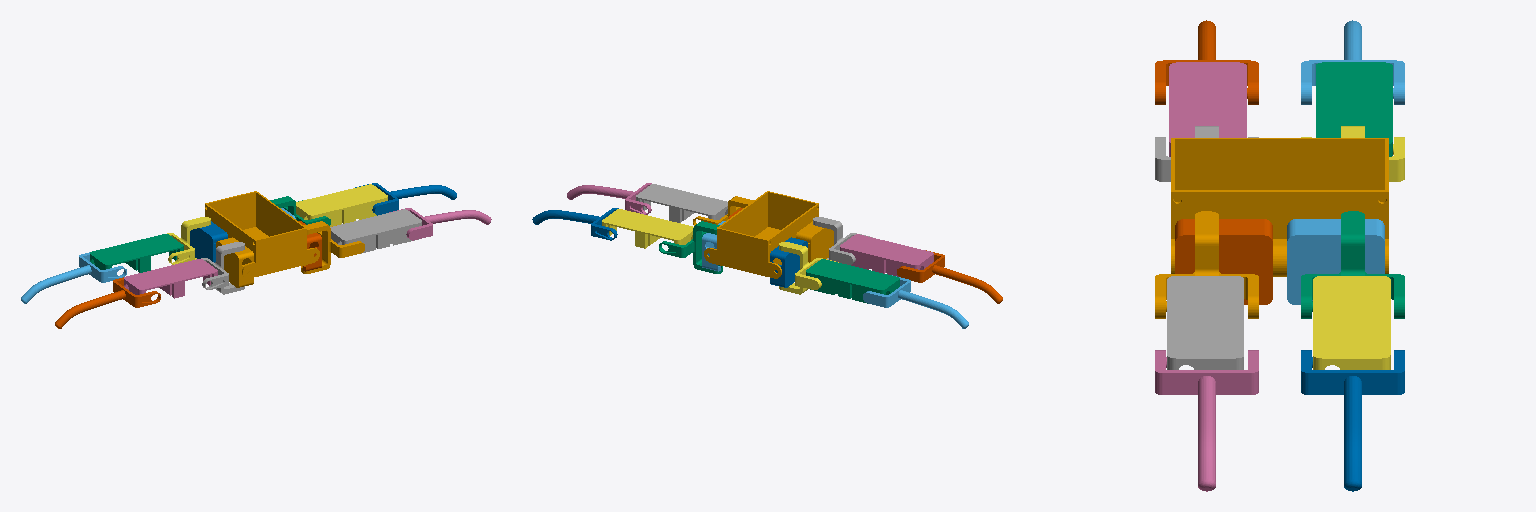
--- What the picture shows (computed from the rendered views, not written in the file) ---
The picture shows the robot from 3 angles, left to right: view 1: azimuth 30°, elevation 25°; view 2: azimuth 150°, elevation 25°; view 3: azimuth 270°, elevation 25°; orthographic projection.
Model Assamblage_Spider_UnLink with 17 links and 16 joints (8 revolute, 4 continuous, 4 fixed), rooted at Chassis-1, posed all joints at 0.
Links seen in each view (by area): view 1: Chassis-1, Emplacement_Moteur_Double-2, Emplacement_Moteur_Double-1, Emplacement_Moteur_Double-4, Emplacement_Moteur_Double-3, Patte-4, Patte-3, Rotation_Horrizontale-2, Patte-2, Patte-1, Rotation_Horrizontale-4, Emplacement_Moteur_Inverse-2 (+2 smaller); view 2: Chassis-1, Emplacement_Moteur_Double-3, Emplacement_Moteur_Double-4, Emplacement_Moteur_Double-2, Emplacement_Moteur_Double-1, Patte-3, Patte-4, Rotation_Horrizontale-1, Patte-1, Rotation_Horrizontale-3, Patte-2, Emplacement_Moteur-2 (+2 smaller); view 3: Chassis-1, Emplacement_Moteur_Double-1, Emplacement_Moteur_Double-2, Emplacement_Moteur_Double-4, Emplacement_Moteur_Double-3, Patte-1, Patte-2, Emplacement_Moteur_Inverse-1, Emplacement_Moteur-1, Rotation_Horrizontale-2, Rotation_Horrizontale-1, Patte-3 (+3 smaller).
Link boxes in pixels (bbox=[...]): Chassis-1: bbox=[205, 191, 319, 278]; Emplacement_Moteur_Double-2: bbox=[330, 209, 421, 253]; Emplacement_Moteur_Double-1: bbox=[296, 184, 387, 226]; Emplacement_Moteur_Double-4: bbox=[124, 259, 217, 298]; Emplacement_Moteur_Double-3: bbox=[90, 234, 183, 272]; Patte-4: bbox=[55, 277, 160, 328]; Patte-3: bbox=[21, 252, 126, 303]; Rotation_Horrizontale-2: bbox=[301, 221, 364, 273]; Patte-2: bbox=[389, 208, 491, 240]; Patte-1: bbox=[355, 183, 456, 215]; Rotation_Horrizontale-4: bbox=[201, 242, 244, 294]; Emplacement_Moteur_Inverse-2: bbox=[190, 221, 227, 262]; Chassis-1: bbox=[704, 191, 818, 278]; Emplacement_Moteur_Double-3: bbox=[806, 259, 899, 303]; Emplacement_Moteur_Double-4: bbox=[840, 234, 933, 276]; Emplacement_Moteur_Double-2: bbox=[636, 184, 727, 222]; Emplacement_Moteur_Double-1: bbox=[602, 209, 693, 248]; Patte-3: bbox=[863, 275, 968, 328]; Patte-4: bbox=[897, 250, 1002, 303]; Rotation_Horrizontale-1: bbox=[659, 221, 722, 273]; Patte-1: bbox=[532, 208, 618, 240]; Rotation_Horrizontale-3: bbox=[779, 242, 838, 294]; Patte-2: bbox=[567, 183, 651, 214]; Emplacement_Moteur-2: bbox=[796, 221, 833, 262]; Chassis-1: bbox=[1171, 138, 1388, 276]; Emplacement_Moteur_Double-1: bbox=[1313, 276, 1390, 369]; Emplacement_Moteur_Double-2: bbox=[1167, 276, 1243, 369]; Emplacement_Moteur_Double-4: bbox=[1169, 62, 1246, 156]; Emplacement_Moteur_Double-3: bbox=[1316, 62, 1392, 156]; Patte-1: bbox=[1301, 350, 1404, 491]; Patte-2: bbox=[1155, 350, 1258, 491]; Emplacement_Moteur_Inverse-1: bbox=[1175, 219, 1272, 304]; Emplacement_Moteur-1: bbox=[1287, 219, 1384, 304]; Rotation_Horrizontale-2: bbox=[1155, 211, 1258, 318]; Rotation_Horrizontale-1: bbox=[1301, 211, 1404, 318]; Patte-3: bbox=[1301, 20, 1404, 104].
Size in the robot's own frame: 0.628 by 0.1459 by 0.0711 metres.
17 mesh visuals loaded from 6 distinct referenced files (6 binary STL).

The robot description file, URDF, robot "Assamblage_Spider_UnLink":
<?xml version='1.0' encoding='utf-8'?>
<robot name="Assamblage_Spider_UnLink">
    <link name="Chassis-1">
        <inertial>
            <origin xyz="9.947598300641404e-15 0.06380000000000287 0.017814158230667163" rpy="0.0 0.0 0.0" />
            <mass value="0.5829160165969687" />
            <inertia ixx="0.0012778802218201919" iyy="0.0007114729351766083" izz="0.0017021597080067448" ixy="1.1817803680091998e-16" iyz="-2.2985086056692694e-17" ixz="-4.119968255444917e-17" />
        </inertial>
        <visual name="Chassis-1_visual">
            <origin xyz="0.0 0.0 0.0" rpy="0.0 0.0 0.0" />
            <geometry>
                <mesh filename="meshes/Chassis.stl" scale="0.001 0.001 0.001" />
            </geometry>
        </visual>
        <collision name="Chassis-1_collision">
            <origin xyz="0.0 0.0 0.0" rpy="0.0 0.0 0.0" />
            <geometry>
                <mesh filename="meshes/Chassis.stl" scale="0.001 0.001 0.001" />
            </geometry>
        </collision>
    </link>
    <link name="Emplacement_Moteur-1">
        <inertial>
            <origin xyz="-0.002332479335006674 0.030669445122476446 0.002802005964202987" rpy="0.0 -0.0 0.0" />
            <mass value="0.14346423067740469" />
            <inertia ixx="7.833360607772476e-05" iyy="3.365745940103434e-05" izz="8.008023967828467e-05" ixy="-2.6065953784901163e-06" iyz="-1.4297303725568351e-06" ixz="-9.449209022414798e-06" />
        </inertial>
        <visual name="Emplacement_Moteur-1_visual">
            <origin xyz="0.0058049512883484675 0.05715000000000016 0.02386485386504578" rpy="-2.3561944901923355 -5.68177208018274e-15 -1.5707963267948966" />
            <geometry>
                <mesh filename="meshes/Emplacement_Moteur.stl" scale="0.001 0.001 0.001" />
            </geometry>
        </visual>
        <collision name="Emplacement_Moteur-1_collision">
            <origin xyz="0.0058049512883484675 0.05715000000000016 0.02386485386504578" rpy="-2.3561944901923355 -5.68177208018274e-15 -1.5707963267948966" />
            <geometry>
                <mesh filename="meshes/Emplacement_Moteur.stl" scale="0.001 0.001 0.001" />
            </geometry>
        </collision>
    </link>
    <link name="Rotation_Horrizontale-1">
        <inertial>
            <origin xyz="-0.0018373282403272562 0.030000000000038496 0.02131267175967212" rpy="0.0 3.1554436208840472e-30 -1.0478933992722584e-30" />
            <mass value="0.1303906448579974" />
            <inertia ixx="6.926949883396299e-05" iyy="7.25728212645907e-05" izz="6.92694988268919e-05" ixy="6.250308374980197e-06" iyz="-6.250308375008491e-06" ixz="4.4016948732173704e-07" />
        </inertial>
        <visual name="Rotation_Horrizontale-1_visual">
            <origin xyz="-0.007149999999999155 -0.00700000000000091 0.05355000000000055" rpy="4.9984978037177644e-29 1.570796326794877 0" />
            <geometry>
                <mesh filename="meshes/Rotation_Horrizontale.stl" scale="0.001 0.001 0.001" />
            </geometry>
        </visual>
        <collision name="Rotation_Horrizontale-1_collision">
            <origin xyz="-0.007149999999999155 -0.00700000000000091 0.05355000000000055" rpy="4.9984978037177644e-29 1.570796326794877 0" />
            <geometry>
                <mesh filename="meshes/collision_form/Rotation_Horrizontale_vhacd2.obj" scale="0.001 0.001 0.001" />
            </geometry>
        </collision>
    </link>
    <link name="Emplacement_Moteur_Double-1">
        <inertial>
            <origin xyz="0.019005163105578673 0.0019928102960502336 0.038419999999994514" rpy="0.0 -7.100117359886263e-31 0.0" />
            <mass value="0.29929591147936513" />
            <inertia ixx="0.00034037590771359815" iyy="0.0003809698292212382" izz="7.126311038706652e-05" ixy="-2.104346703139879e-06" iyz="-7.546028287794657e-18" ixz="-2.1400145199249155e-17" />
        </inertial>
        <visual name="Emplacement_Moteur_Double-1_visual">
            <origin xyz="-0.0012500000000011458 0.011250000000000534 0.03841999999999976" rpy="1.5707963267948999 1.5707963267948648 0" />
            <geometry>
                <mesh filename="meshes/Emplacement_Moteur_Double.stl" scale="0.001 0.001 0.001" />
            </geometry>
        </visual>
        <collision name="Emplacement_Moteur_Double-1_collision">
            <origin xyz="-0.0012500000000011458 0.011250000000000534 0.03841999999999976" rpy="1.5707963267948999 1.5707963267948648 0" />
            <geometry>
                <mesh filename="meshes/Emplacement_Moteur_Double.stl" scale="0.001 0.001 0.001" />
            </geometry>
        </collision>
    </link>
    <link name="Patte-1">
        <inertial>
            <origin xyz="-0.05112779424349531 -0.0031349673028044566 0.021393034548033978" rpy="0.0 -4.050701304022657e-31 0.0" />
            <mass value="0.13994520599183013" />
            <inertia ixx="4.102269560181839e-05" iyy="0.00023514046602200175" izz="0.00020481689344100572" ixy="-2.3305826015012464e-05" iyz="7.708236833886098e-07" ixz="1.1691900788973942e-05" />
        </inertial>
        <visual name="Patte-1_visual">
            <origin xyz="0.006999999999998466 0.007149999999999741 0.05355000000000015" rpy="1.5707963267948681 -1.5707963267948684 0" />
            <geometry>
                <mesh filename="meshes/Patte.stl" scale="0.001 0.001 0.001" />
            </geometry>
        </visual>
        <collision name="Patte-1_collision">
            <origin xyz="0.006999999999998466 0.007149999999999741 0.05355000000000015" rpy="1.5707963267948681 -1.5707963267948684 0" />
            <geometry>
                <mesh filename="meshes/Patte.stl" scale="0.001 0.001 0.001" />
            </geometry>
        </collision>
    </link>
    <link name="Emplacement_Moteur_Inverse-1">
        <inertial>
            <origin xyz="-0.002802005964203076 0.030669445122476442 0.002332479335006674" rpy="3.944304526105059e-31 -0.0 3.944304526105059e-31" />
            <mass value="0.14346423067740466" />
            <inertia ixx="8.008023967828474e-05" iyy="3.3657459401034703e-05" izz="7.833360607772585e-05" ixy="1.429730372557226e-06" iyz="2.6065953784901675e-06" ixz="-9.449209022415401e-06" />
        </inertial>
        <visual name="Emplacement_Moteur_Inverse-1_visual">
            <origin xyz="-0.023864853865046023 0.05715000000000002 -0.005804951288348406" rpy="-2.356194490192358 -1.6499097402607482e-15 -1.5707963267948974" />
            <geometry>
                <mesh filename="meshes/Emplacement_Moteur_Inverse.stl" scale="0.001 0.001 0.001" />
            </geometry>
        </visual>
        <collision name="Emplacement_Moteur_Inverse-1_collision">
            <origin xyz="-0.023864853865046023 0.05715000000000002 -0.005804951288348406" rpy="-2.356194490192358 -1.6499097402607482e-15 -1.5707963267948974" />
            <geometry>
                <mesh filename="meshes/Emplacement_Moteur_Inverse.stl" scale="0.001 0.001 0.001" />
            </geometry>
        </collision>
    </link>
    <link name="Patte-2">
        <inertial>
            <origin xyz="-0.05112779424349537 -0.003134967302804448 0.021393034548034106" rpy="-1.5777218104420236e-30 1.1103065671124281e-30 1.5777218104420236e-30" />
            <mass value="0.13994520599183013" />
            <inertia ixx="4.1022695601817914e-05" iyy="0.00023514046602200256" izz="0.00020481689344100653" ixy="-2.3305826015013097e-05" iyz="7.708236833886652e-07" ixz="1.1691900788974567e-05" />
        </inertial>
        <visual name="Patte-2_visual">
            <origin xyz="0.006999999999998483 0.0071499999999998474 0.0535500000000002" rpy="1.5707963267948695 -1.57079632679487 0" />
            <geometry>
                <mesh filename="meshes/Patte.stl" scale="0.001 0.001 0.001" />
            </geometry>
        </visual>
        <collision name="Patte-2_collision">
            <origin xyz="0.006999999999998483 0.0071499999999998474 0.0535500000000002" rpy="1.5707963267948695 -1.57079632679487 0" />
            <geometry>
                <mesh filename="meshes/Patte.stl" scale="0.001 0.001 0.001" />
            </geometry>
        </collision>
    </link>
    <link name="Emplacement_Moteur_Double-2">
        <inertial>
            <origin xyz="0.019005163105578753 0.0019928102960499318 0.03841999999999456" rpy="0.0 5.735049138412736e-31 0.0" />
            <mass value="0.29929591147936513" />
            <inertia ixx="0.000340375907713599" iyy="0.0003809698292212395" izz="7.126311038706631e-05" ixy="-2.1043467031391404e-06" iyz="-9.727824332375462e-18" ixz="-2.2379958065775452e-17" />
        </inertial>
        <visual name="Emplacement_Moteur_Double-2_visual">
            <origin xyz="-0.0012500000000009949 0.011250000000000355 0.03841999999999977" rpy="1.570796326794906 1.570796326794862 0" />
            <geometry>
                <mesh filename="meshes/Emplacement_Moteur_Double.stl" scale="0.001 0.001 0.001" />
            </geometry>
        </visual>
        <collision name="Emplacement_Moteur_Double-2_collision">
            <origin xyz="-0.0012500000000009949 0.011250000000000355 0.03841999999999977" rpy="1.570796326794906 1.570796326794862 0" />
            <geometry>
                <mesh filename="meshes/Emplacement_Moteur_Double.stl" scale="0.001 0.001 0.001" />
            </geometry>
        </collision>
    </link>
    <link name="Rotation_Horrizontale-2">
        <inertial>
            <origin xyz="-0.0018373282403280986 -0.03000000000003934 -0.02131267175967203" rpy="0.0 1.5777218104420236e-30 4.858398881821002e-31" />
            <mass value="0.1303906448579974" />
            <inertia ixx="6.926949883396313e-05" iyy="7.257282126459105e-05" izz="6.926949882689195e-05" ixy="-6.250308374980395e-06" iyz="-6.2503083750083065e-06" ixz="-4.401694873217241e-07" />
        </inertial>
        <visual name="Rotation_Horrizontale-2_visual">
            <origin xyz="-0.007150000000000742 0.006999999999999858 -0.05355000000000061" rpy="3.1415926535897882 -1.5707963267948717 0" />
            <geometry>
                <mesh filename="meshes/Rotation_Horrizontale.stl" scale="0.001 0.001 0.001" />
            </geometry>
        </visual>
        <collision name="Rotation_Horrizontale-2_collision">
            <origin xyz="-0.007150000000000742 0.006999999999999858 -0.05355000000000061" rpy="3.1415926535897882 -1.5707963267948717 0" />
            <geometry>
                <mesh filename="meshes/collision_form/Rotation_Horrizontale_vhacd2.obj" scale="0.001 0.001 0.001" />
            </geometry>
        </collision>
    </link>
    <link name="Patte-3">
        <inertial>
            <origin xyz="-0.05112779424349555 0.003134967302801597 -0.021393034548035088" rpy="0.0 -9.384908036515747e-31 0.0" />
            <mass value="0.13994520599183013" />
            <inertia ixx="4.102269560181832e-05" iyy="0.00023514046602199975" izz="0.00020481689344100886" ixy="2.3305826015012965e-05" iyz="7.708236833826714e-07" ixz="-1.1691900788978741e-05" />
        </inertial>
        <visual name="Patte-3_visual">
            <origin xyz="0.00699999999999811 -0.007150000000008774 -0.05354999999999941" rpy="-1.5707963267949108 1.570796326794729 0" />
            <geometry>
                <mesh filename="meshes/Patte.stl" scale="0.001 0.001 0.001" />
            </geometry>
        </visual>
        <collision name="Patte-3_collision">
            <origin xyz="0.00699999999999811 -0.007150000000008774 -0.05354999999999941" rpy="-1.5707963267949108 1.570796326794729 0" />
            <geometry>
                <mesh filename="meshes/Patte.stl" scale="0.001 0.001 0.001" />
            </geometry>
        </collision>
    </link>
    <link name="Emplacement_Moteur_Double-3">
        <inertial>
            <origin xyz="0.019005163105578458 -0.0019928102960545947 -0.038419999999994514" rpy="0.0 3.417102569172308e-30 3.1554436208840472e-30" />
            <mass value="0.29929591147936513" />
            <inertia ixx="0.00034037590771359783" iyy="0.0003809698292212391" izz="7.126311038706596e-05" ixy="2.104346703144433e-06" iyz="-3.000170609602301e-17" ixz="2.3114178703260926e-17" />
        </inertial>
        <visual name="Emplacement_Moteur_Double-3_visual">
            <origin xyz="-0.0012500000000023272 -0.01125000000000278 -0.038419999999999135" rpy="-1.5707963267949967 -1.5707963267948046 0" />
            <geometry>
                <mesh filename="meshes/Emplacement_Moteur_Double.stl" scale="0.001 0.001 0.001" />
            </geometry>
        </visual>
        <collision name="Emplacement_Moteur_Double-3_collision">
            <origin xyz="-0.0012500000000023272 -0.01125000000000278 -0.038419999999999135" rpy="-1.5707963267949967 -1.5707963267948046 0" />
            <geometry>
                <mesh filename="meshes/Emplacement_Moteur_Double.stl" scale="0.001 0.001 0.001" />
            </geometry>
        </collision>
    </link>
    <link name="Rotation_Horrizontale-3">
        <inertial>
            <origin xyz="-0.0018373282403257108 -0.030000000000040376 -0.021312671759670207" rpy="0.0 -0.0 -4.1479716175894846e-32" />
            <mass value="0.1303906448579974" />
            <inertia ixx="6.926949883396408e-05" iyy="7.257282126459086e-05" izz="6.926949882689147e-05" ixy="-6.250308374980049e-06" iyz="-6.250308375009074e-06" ixz="-4.401694873219584e-07" />
        </inertial>
        <visual name="Rotation_Horrizontale-3_visual">
            <origin xyz="-0.007149999999995486 0.006999999999996618 -0.053550000000001784" rpy="-3.1415926535897922 -1.5707963267947784 0" />
            <geometry>
                <mesh filename="meshes/Rotation_Horrizontale.stl" scale="0.001 0.001 0.001" />
            </geometry>
        </visual>
        <collision name="Rotation_Horrizontale-3_collision">
            <origin xyz="-0.007149999999995486 0.006999999999996618 -0.053550000000001784" rpy="-3.1415926535897922 -1.5707963267947784 0" />
            <geometry>
                <mesh filename="meshes/collision_form/Rotation_Horrizontale_vhacd2.obj" scale="0.001 0.001 0.001" />
            </geometry>
        </collision>
    </link>
    <link name="Emplacement_Moteur_Inverse-2">
        <inertial>
            <origin xyz="0.0028020059642045857 -0.030669445122476297 0.002332479335007367" rpy="0.0 -0.0 0.0" />
            <mass value="0.14346423067740466" />
            <inertia ixx="8.008023967828406e-05" iyy="3.3657459401034514e-05" izz="7.833360607772541e-05" ixy="1.4297303725603014e-06" iyz="-2.6065953784886335e-06" ixz="9.44920902241595e-06" />
        </inertial>
        <visual name="Emplacement_Moteur_Inverse-2_visual">
            <origin xyz="0.023864853865048802 -0.05714999999999902 -0.005804951288347109" rpy="-2.356194490192358 2.1097221506654763e-14 1.570796326794945" />
            <geometry>
                <mesh filename="meshes/Emplacement_Moteur_Inverse.stl" scale="0.001 0.001 0.001" />
            </geometry>
        </visual>
        <collision name="Emplacement_Moteur_Inverse-2_collision">
            <origin xyz="0.023864853865048802 -0.05714999999999902 -0.005804951288347109" rpy="-2.356194490192358 2.1097221506654763e-14 1.570796326794945" />
            <geometry>
                <mesh filename="meshes/Emplacement_Moteur_Inverse.stl" scale="0.001 0.001 0.001" />
            </geometry>
        </collision>
    </link>
    <link name="Patte-4">
        <inertial>
            <origin xyz="-0.05112779424349512 0.0031349673028018277 -0.021393034548034623" rpy="0.0 -2.05433382870984e-31 0.0" />
            <mass value="0.13994520599183013" />
            <inertia ixx="4.1022695601818836e-05" iyy="0.00023514046602200278" izz="0.00020481689344100133" ixy="2.3305826015014432e-05" iyz="7.708236833841292e-07" ixz="-1.169190078897868e-05" />
        </inertial>
        <visual name="Patte-4_visual">
            <origin xyz="0.006999999999998643 -0.007150000000008383 -0.05354999999999888" rpy="-1.5707963267949092 1.5707963267947376 0" />
            <geometry>
                <mesh filename="meshes/Patte.stl" scale="0.001 0.001 0.001" />
            </geometry>
        </visual>
        <collision name="Patte-4_collision">
            <origin xyz="0.006999999999998643 -0.007150000000008383 -0.05354999999999888" rpy="-1.5707963267949092 1.5707963267947376 0" />
            <geometry>
                <mesh filename="meshes/Patte.stl" scale="0.001 0.001 0.001" />
            </geometry>
        </collision>
    </link>
    <link name="Emplacement_Moteur_Double-4">
        <inertial>
            <origin xyz="0.019005163105578596 -0.0019928102960547634 -0.038419999999994375" rpy="0.0 1.3811899832556936e-30 0.0" />
            <mass value="0.29929591147936513" />
            <inertia ixx="0.0003403759077135973" iyy="0.00038096982922124125" izz="7.126311038706666e-05" ixy="2.1043467031434578e-06" iyz="-2.7869381475770627e-17" ixz="2.2892874837959084e-17" />
        </inertial>
        <visual name="Emplacement_Moteur_Double-4_visual">
            <origin xyz="-0.0012500000000021272 -0.011250000000003065 -0.038419999999999066" rpy="-1.570796326794993 -1.5707963267948097 0" />
            <geometry>
                <mesh filename="meshes/Emplacement_Moteur_Double.stl" scale="0.001 0.001 0.001" />
            </geometry>
        </visual>
        <collision name="Emplacement_Moteur_Double-4_collision">
            <origin xyz="-0.0012500000000021272 -0.011250000000003065 -0.038419999999999066" rpy="-1.570796326794993 -1.5707963267948097 0" />
            <geometry>
                <mesh filename="meshes/Emplacement_Moteur_Double.stl" scale="0.001 0.001 0.001" />
            </geometry>
        </collision>
    </link>
    <link name="Rotation_Horrizontale-4">
        <inertial>
            <origin xyz="-0.0018373282403264166 0.030000000000039738 0.021312671759669746" rpy="-1.262177448353619e-29 -0.0 -4.7035014623148654e-33" />
            <mass value="0.1303906448579974" />
            <inertia ixx="6.926949883396177e-05" iyy="7.257282126458953e-05" izz="6.926949882689424e-05" ixy="6.250308374980009e-06" iyz="-6.250308375009017e-06" ixz="4.4016948732123465e-07" />
        </inertial>
        <visual name="Rotation_Horrizontale-4_visual">
            <origin xyz="-0.007149999999997092 -0.006999999999997471 0.05355000000000091" rpy="3.489229061239924e-27 1.5707963267947997 0" />
            <geometry>
                <mesh filename="meshes/Rotation_Horrizontale.stl" scale="0.001 0.001 0.001" />
            </geometry>
        </visual>
        <collision name="Rotation_Horrizontale-4_collision">
            <origin xyz="-0.007149999999997092 -0.006999999999997471 0.05355000000000091" rpy="3.489229061239924e-27 1.5707963267947997 0" />
            <geometry>
                <mesh filename="meshes/collision_form/Rotation_Horrizontale_vhacd2.obj" scale="0.001 0.001 0.001" />
            </geometry>
        </collision>
    </link>
    <link name="Emplacement_Moteur-2">
        <inertial>
            <origin xyz="0.0023324793350080774 -0.03066944512247634 0.0028020059642037153" rpy="0.0 -0.0 0.0" />
            <mass value="0.14346423067740469" />
            <inertia ixx="7.833360607772548e-05" iyy="3.365745940103332e-05" izz="8.008023967828539e-05" ixy="-2.6065953784878894e-06" iyz="1.4297303725584868e-06" ixz="9.449209022414147e-06" />
        </inertial>
        <visual name="Emplacement_Moteur-2_visual">
            <origin xyz="-0.005804951288345874 -0.057149999999999895 0.023864853865047202" rpy="-2.356194490192333 1.8699899399706393e-14 1.5707963267949419" />
            <geometry>
                <mesh filename="meshes/Emplacement_Moteur.stl" scale="0.001 0.001 0.001" />
            </geometry>
        </visual>
        <collision name="Emplacement_Moteur-2_collision">
            <origin xyz="-0.005804951288345874 -0.057149999999999895 0.023864853865047202" rpy="-2.356194490192333 1.8699899399706393e-14 1.5707963267949419" />
            <geometry>
                <mesh filename="meshes/Emplacement_Moteur.stl" scale="0.001 0.001 0.001" />
            </geometry>
        </collision>
    </link>
    <joint name="Rev_ARD_V1" type="continuous">
        <origin xyz="-0.021900000000000048 0.05999999999999763 0.02314999999999988" rpy="-1.5707963267948968 3.3736957722126954e-14 -2.0947571672762378e-14" />
        <parent link="Rotation_Horrizontale-1" />
        <child link="Emplacement_Moteur_Double-1" />
        <axis xyz="0.9999999999999969 -2.1639711613610726e-14 1.8429702222012457e-14" />
    </joint>
    <joint name="Rev_ARD_V2" type="revolute">
        <origin xyz="-0.0012500000000022738 1.0658141036401502e-15 0.07683999999999987" rpy="3.2624243413214618e-15 1.5707963267948821 0" />
        <parent link="Emplacement_Moteur_Double-1" />
        <child link="Patte-1" />
        <axis xyz="-1.715294573045867e-14 -1.846749289303992e-14 -1.0" />
        <limit lower="-2.356194" upper="0.785398" effort="1000000" velocity="1000000" />
    </joint>
    <joint name="Rev_ARD_H" type="revolute">
        <origin xyz="0.013759902576697193 0.018730000000000066 0.015909902576697395" rpy="2.356194490192338 5.7560412295557925e-15 -1.570796326794908" />
        <parent link="Emplacement_Moteur-1" />
        <child link="Rotation_Horrizontale-1" />
        <axis xyz="1.211806279022781e-14 -4.265614733413224e-15 -1.0000000000000016" />
        <limit lower="-1.570796" upper="1.570796" effort="1000000" velocity="1000000" />
    </joint>
    <joint name="Rigide_ARD" type="fixed">
        <origin xyz="0.04722972042045238 0.1251000000000001 0.011520279579551077" rpy="0.0 -0.7853981633974512 3.141592653589793" />
        <parent link="Chassis-1" />
        <child link="Emplacement_Moteur-1" />
    </joint>
    <joint name="Rev_AVG_H" type="revolute">
        <origin xyz="-0.01375990257669634 -0.018730000000000368 0.01590990257669793" rpy="2.356194490192408 5.4568224494958916e-14 1.570796326794906" />
        <parent link="Emplacement_Moteur-2" />
        <child link="Rotation_Horrizontale-4" />
        <axis xyz="-1.3538900959658231e-14 6.455223083963277e-14 -1.0000000000000042" />
        <limit lower="-1.570796" upper="1.570796" effort="1000000" velocity="1000000" />
    </joint>
    <joint name="Rev_AVG_V1" type="continuous">
        <origin xyz="-0.021899999999999135 0.05999999999999904 0.023149999999996132" rpy="1.5707963267948968 -3.135335373731618e-14 -1.727660358355317e-14" />
        <parent link="Rotation_Horrizontale-4" />
        <child link="Emplacement_Moteur_Double-4" />
        <axis xyz="0.9999999999999971 -1.783526945936971e-14 -1.8582357887887993e-14" />
    </joint>
    <joint name="Rev_AVG_V2" type="revolute">
        <origin xyz="-0.0012500000000019984 -6.226130722097878e-15 -0.07683999999999984" rpy="6.07489426655965e-14 -1.570796326794826 0" />
        <parent link="Emplacement_Moteur_Double-4" />
        <child link="Patte-4" />
        <axis xyz="-1.7286419795493306e-14 -7.875410899925948e-14 1.0000000000000024" />
        <limit lower="-2.356194" upper="0.785398" effort="1000000" velocity="1000000" />
    </joint>
    <joint name="Rigide_AVG" type="fixed">
        <origin xyz="-0.0472297204204558 0.002500000000003073 0.011520279579551077" rpy="6.426424947170844e-14 0.7853981633974512 3.141592653589793" />
        <parent link="Chassis-1" />
        <child link="Emplacement_Moteur-2" />
    </joint>
    <joint name="Rev_AVD_V2" type="revolute">
        <origin xyz="-0.0012500000000021361 1.1901590823981679e-15 0.07683999999999995" rpy="9.505739391018395e-15 1.5707963267948915 0" />
        <parent link="Emplacement_Moteur_Double-2" />
        <child link="Patte-2" />
        <axis xyz="-1.7152945730458643e-14 -1.0722628693428543e-14 -1.0" />
        <limit lower="-2.356194" upper="0.785398" effort="1000000" velocity="1000000" />
    </joint>
    <joint name="Rev_AVD_V1" type="continuous">
        <origin xyz="-0.02190000000000109 -0.05999999999999841 -0.023149999999998946" rpy="1.5707963267948963 -9.38981580654399e-15 1.4616003066969392e-14" />
        <parent link="Rotation_Horrizontale-2" />
        <child link="Emplacement_Moteur_Double-2" />
        <axis xyz="0.9999999999999969 -2.0138162463696103e-14 1.842970222201263e-14" />
    </joint>
    <joint name="Rev_AVD_H" type="revolute">
        <origin xyz="-0.015909902576697502 0.018729999999999972 -0.013759902576697122" rpy="-2.3561944901923386 1.5092085640889597e-14 1.5707963267949026" />
        <parent link="Emplacement_Moteur_Inverse-1" />
        <child link="Rotation_Horrizontale-2" />
        <axis xyz="1.0727529975440586e-14 3.575022715069658e-15 -1.0000000000000009" />
        <limit lower="-1.570796" upper="1.570796" effort="1000000" velocity="1000000" />
    </joint>
    <joint name="Rigide_AVD" type="fixed">
        <origin xyz="0.04722972042045009 0.0025000000000000534 0.011520279579551077" rpy="-3.1415926535897873 0.7853981633974512 3.141592653589793" />
        <parent link="Chassis-1" />
        <child link="Emplacement_Moteur_Inverse-1" />
    </joint>
    <joint name="Rev_ARG_H" type="revolute">
        <origin xyz="0.01590990257669839 -0.018729999999999514 -0.013759902576696686" rpy="-2.3561944901922716 -7.740642559363058e-14 -1.5707963267949032" />
        <parent link="Emplacement_Moteur_Inverse-2" />
        <child link="Rotation_Horrizontale-3" />
        <axis xyz="-9.83414738531252e-15 7.016609515630989e-14 -0.9999999999999998" />
        <limit lower="-1.570796" upper="1.570796" effort="1000000" velocity="1000000" />
    </joint>
    <joint name="Rev_ARG_V1" type="continuous">
        <origin xyz="-0.02189999999999838 -0.059999999999999644 -0.023149999999996958" rpy="-1.5707963267948977 7.375498074236142e-15 1.8464776149057006e-14" />
        <parent link="Rotation_Horrizontale-3" />
        <child link="Emplacement_Moteur_Double-3" />
        <axis xyz="0.9999999999999979 -1.737422734933067e-14 -1.9520843275165795e-14" />
    </joint>
    <joint name="Rev_ARG_V2" type="revolute">
        <origin xyz="-0.0012500000000021671 -6.190603585309873e-15 -0.07684000000000019" rpy="6.56927894573842e-14 -1.5707963267948222 0" />
        <parent link="Emplacement_Moteur_Double-3" />
        <child link="Patte-3" />
        <axis xyz="-1.812439087700568e-14 -8.438041931846385e-14 0.9999999999999996" />
        <limit lower="-2.356194" upper="0.785398" effort="1000000" velocity="1000000" />
    </joint>
    <joint name="Rigide_ARG" type="fixed">
        <origin xyz="-0.04722972042045353 0.12510000000000326 0.011520279579551077" rpy="-3.141592653589723 -0.7853981633974512 3.141592653589793" />
        <parent link="Chassis-1" />
        <child link="Emplacement_Moteur_Inverse-2" />
    </joint>
    
    
</robot>
